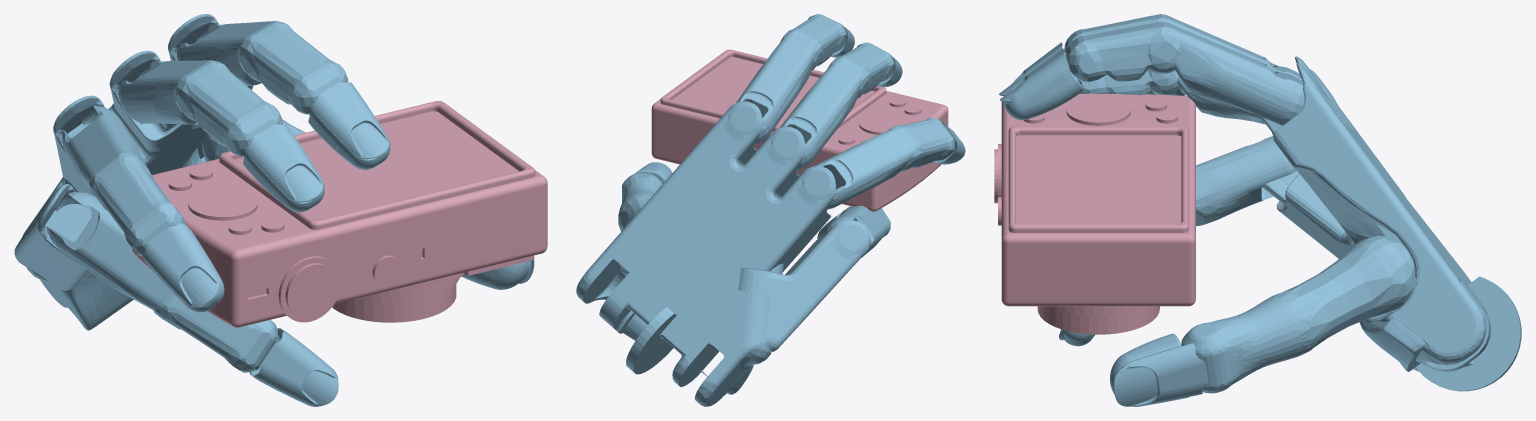
The picture shows the model from 3 angles, left to right: view 1: azimuth 30°, elevation 25°; view 2: azimuth 150°, elevation 25°; view 3: azimuth 270°, elevation 25°; orthographic projection. The views are drawn at different scales.
Parts seen in each view (by area): view 1: world, camera.stl; view 2: world, camera.stl; view 3: world, camera.stl.
Part boxes in pixels (bbox=[...]): world: bbox=[14, 14, 534, 406]; camera.stl: bbox=[132, 101, 547, 327]; world: bbox=[576, 14, 965, 406]; camera.stl: bbox=[651, 49, 948, 211]; world: bbox=[999, 14, 1521, 406]; camera.stl: bbox=[994, 93, 1195, 334].
Size of the model in its own units: 0.1486 by 0.135 by 0.1756.
